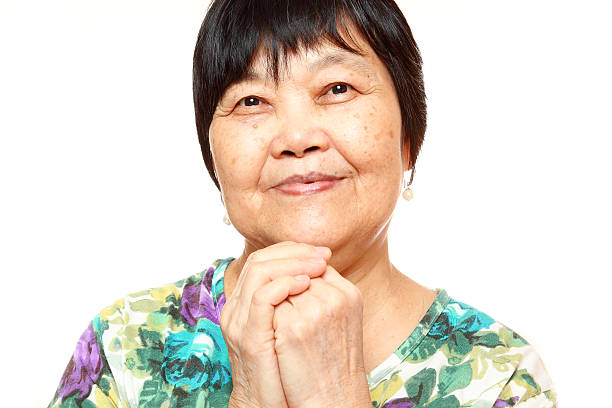face: (217, 49, 403, 245)
